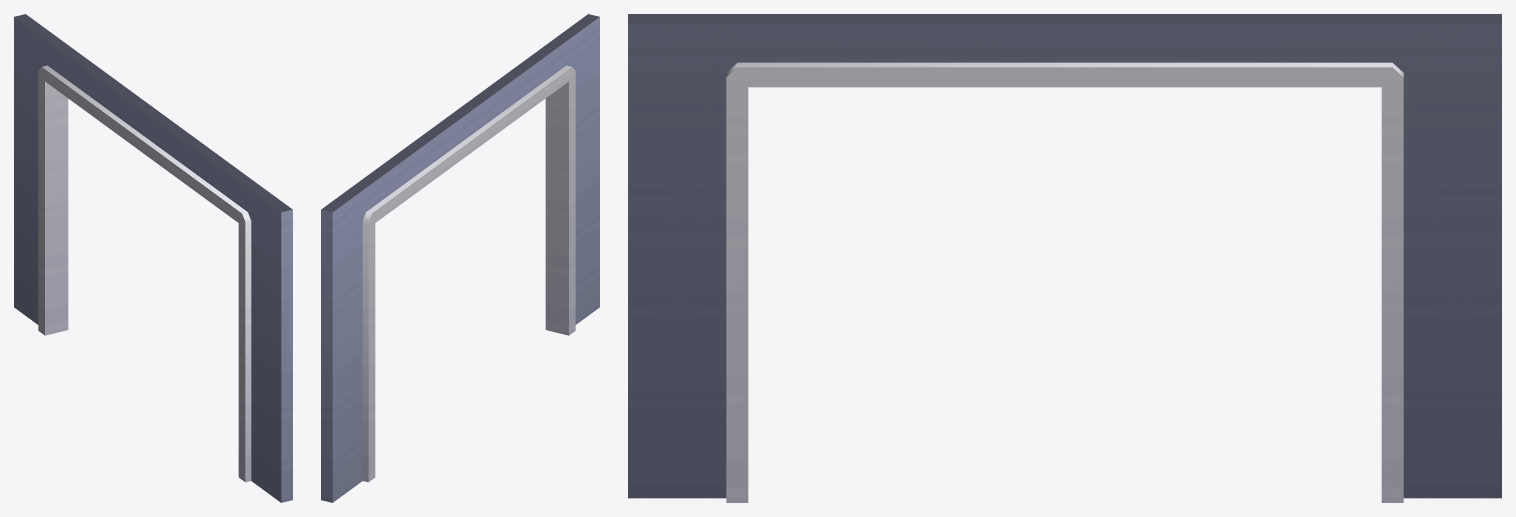
File: wall-doorway-wide-square.glb
3 views of the same model, side by side, from view 1: azimuth 30°, elevation 25°; view 2: azimuth 150°, elevation 25°; view 3: azimuth 270°, elevation 25° (orthographic). The views are drawn at different scales.
Parts seen in each view (by area): view 1: wall-doorway-wide-square; view 2: wall-doorway-wide-square; view 3: wall-doorway-wide-square.
Boxes of the visible parts, left/top/right/bottom form: wall-doorway-wide-square: left=14, top=14, right=292, bottom=502; wall-doorway-wide-square: left=321, top=14, right=599, bottom=502; wall-doorway-wide-square: left=628, top=14, right=1501, bottom=502.
Size of the model in its own units: 0.2 by 2.4 by 4.
Materials: 1 (1 with a texture image).
